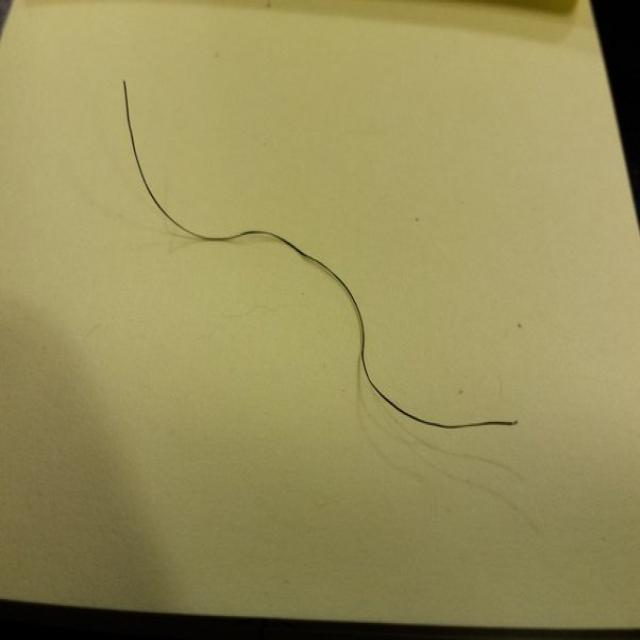hair: (111, 77, 529, 444)
